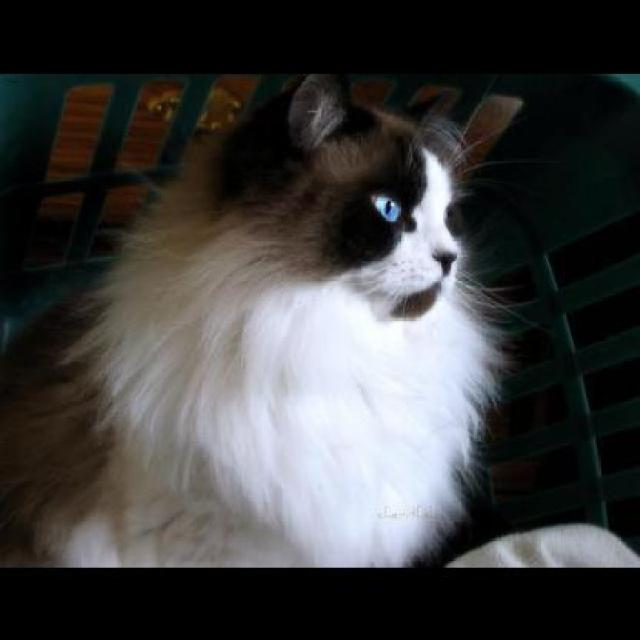unauthorized: (0, 72, 531, 568)
